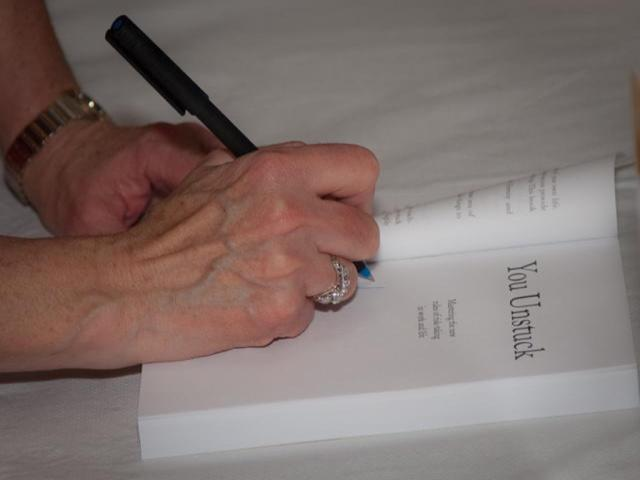PEN: (99, 10, 386, 294)
